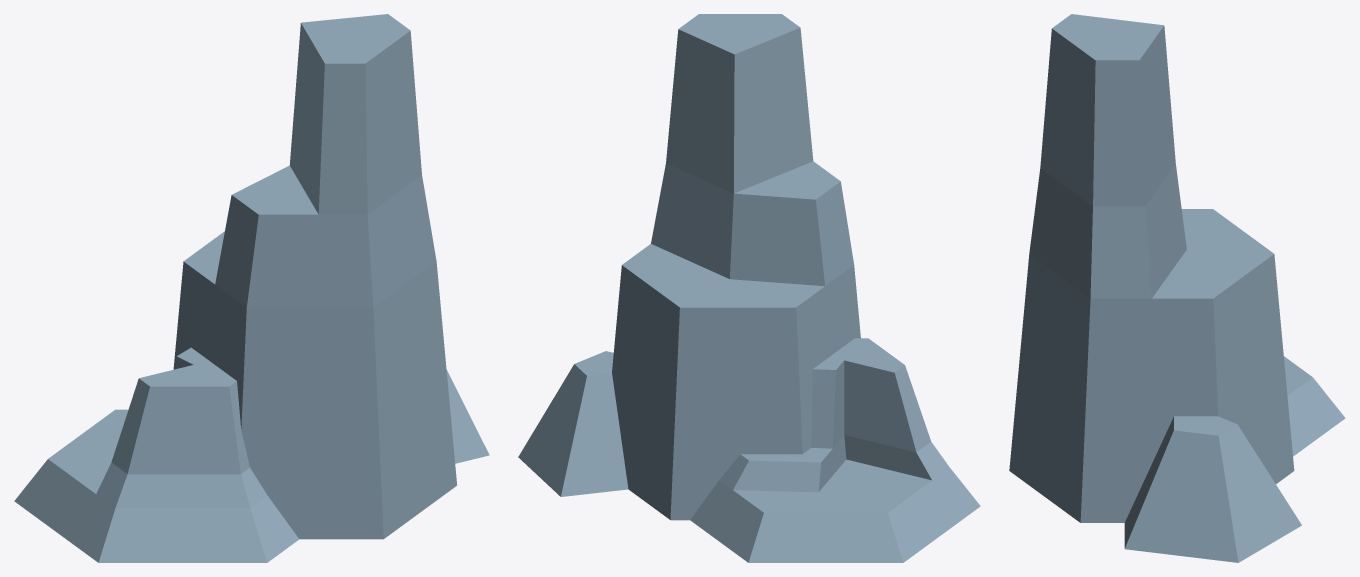
File: formationlarge_stone.glb
3 views of the same model, side by side, from view 1: azimuth 30°, elevation 25°; view 2: azimuth 150°, elevation 25°; view 3: azimuth 270°, elevation 25° (orthographic). The views are drawn at different scales.
Parts seen in each view (by area): view 1: formationLarge_stone; view 2: formationLarge_stone; view 3: formationLarge_stone.
Part boxes in pixels (x1,y1,x2,y2): formationLarge_stone: (14, 14, 489, 562); formationLarge_stone: (518, 14, 980, 562); formationLarge_stone: (1009, 14, 1345, 562).
Size of the model in its own units: 13.62 by 13.8 by 9.47.
